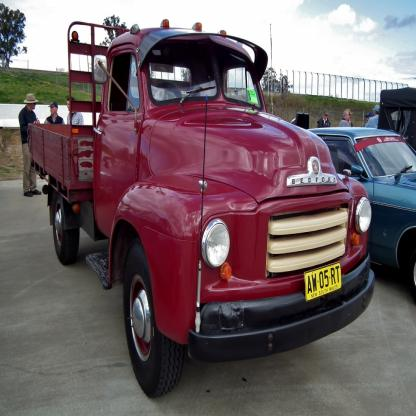Car: (305, 100, 416, 297)
